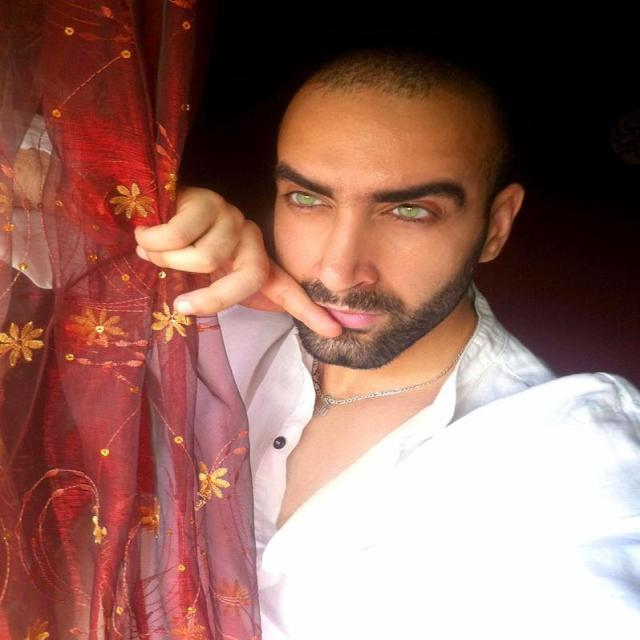front: (287, 158, 445, 355)
